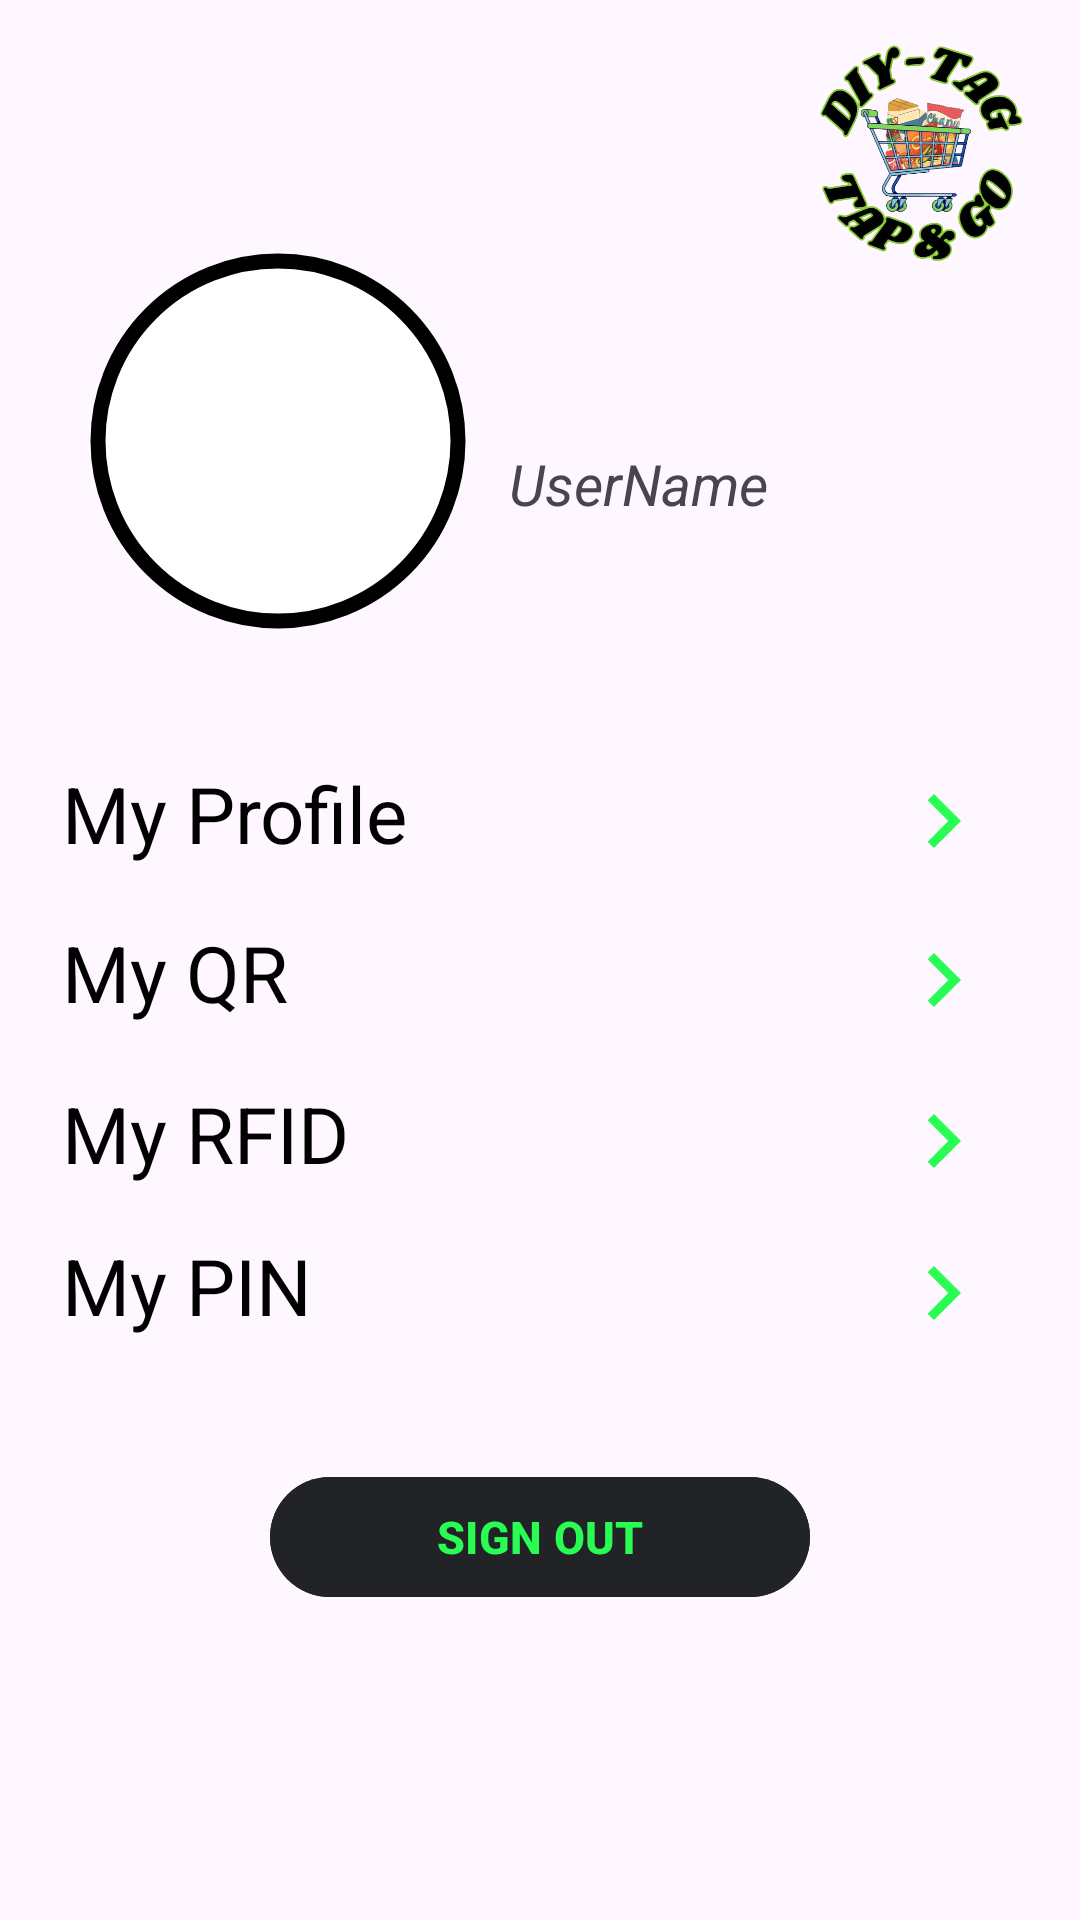

Named icons in this screenshot (1080x1920) and their centers, [x,y]:
keyboard arrow right: [944,821], [944,980], [944,1141], [944,1293]
